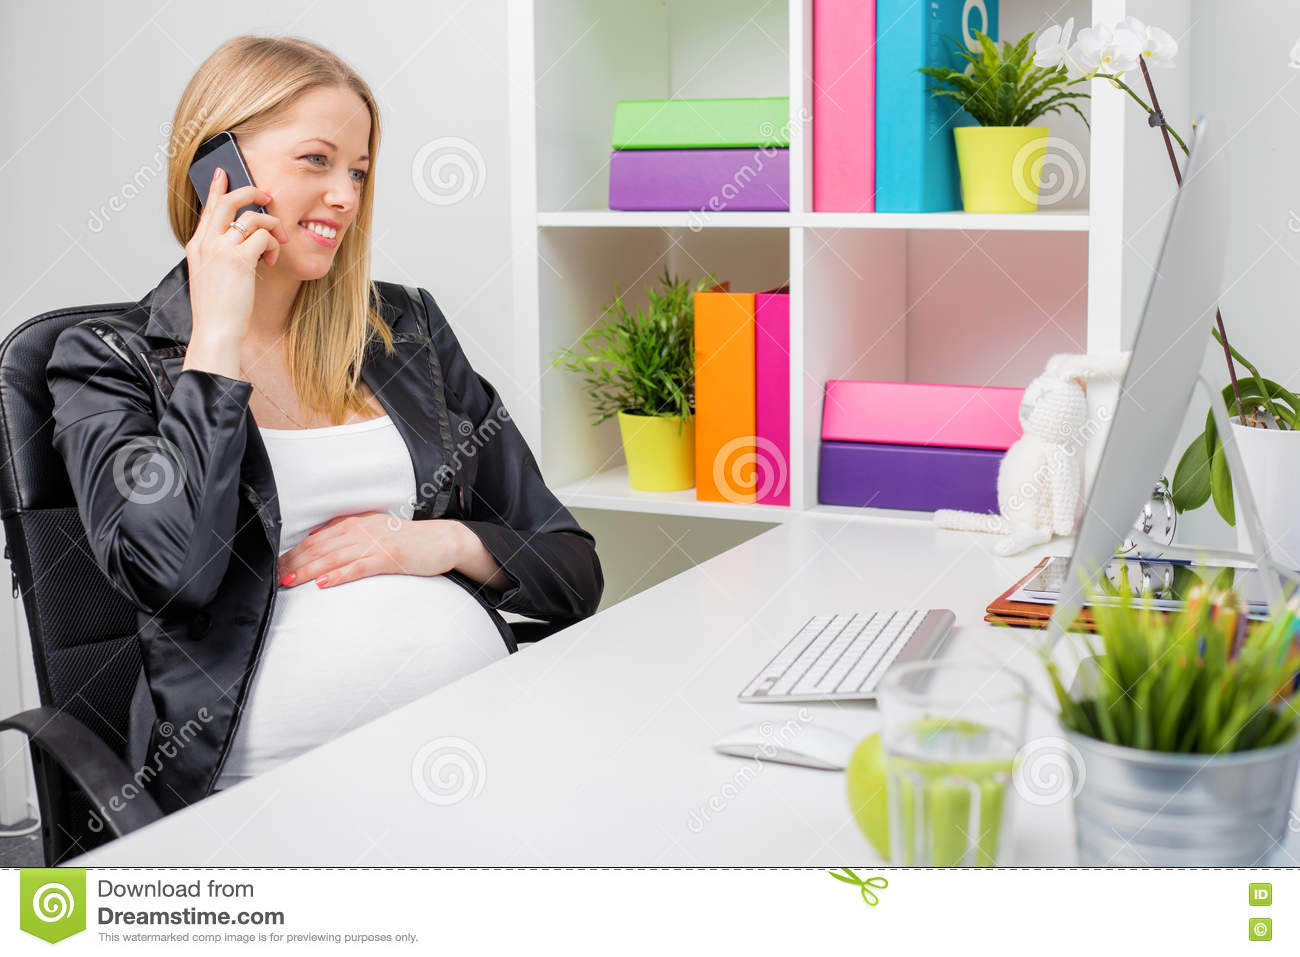phone: (191, 134, 267, 246)
talk: (179, 124, 369, 363)
